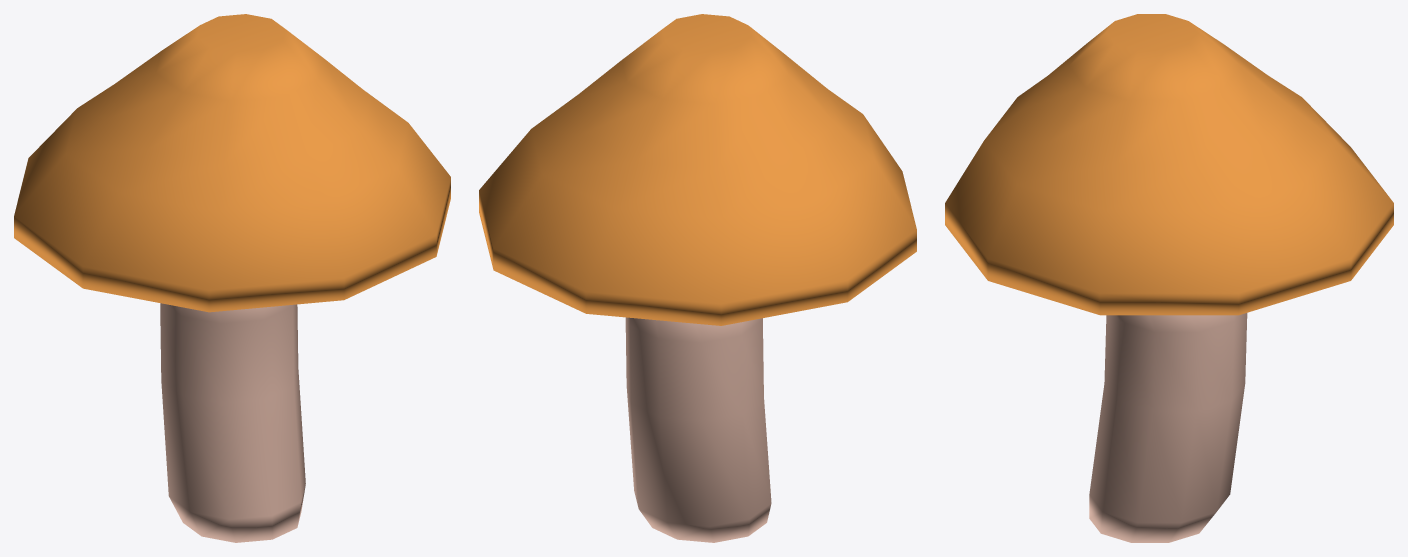
Rendered from MOSSTROOM.fbx.
The picture shows the model from 3 angles, left to right: view 1: azimuth 30°, elevation 25°; view 2: azimuth 150°, elevation 25°; view 3: azimuth 270°, elevation 25°; orthographic projection.
Parts seen in each view (by area): view 1: hat.001; view 2: hat.001; view 3: hat.001.
Boxes of the visible parts, x1,y1,x2,y2 form: hat.001: (14, 14, 450, 542); hat.001: (479, 14, 916, 542); hat.001: (945, 14, 1393, 542).
Size of the model in its own units: 606 by 762 by 637.
